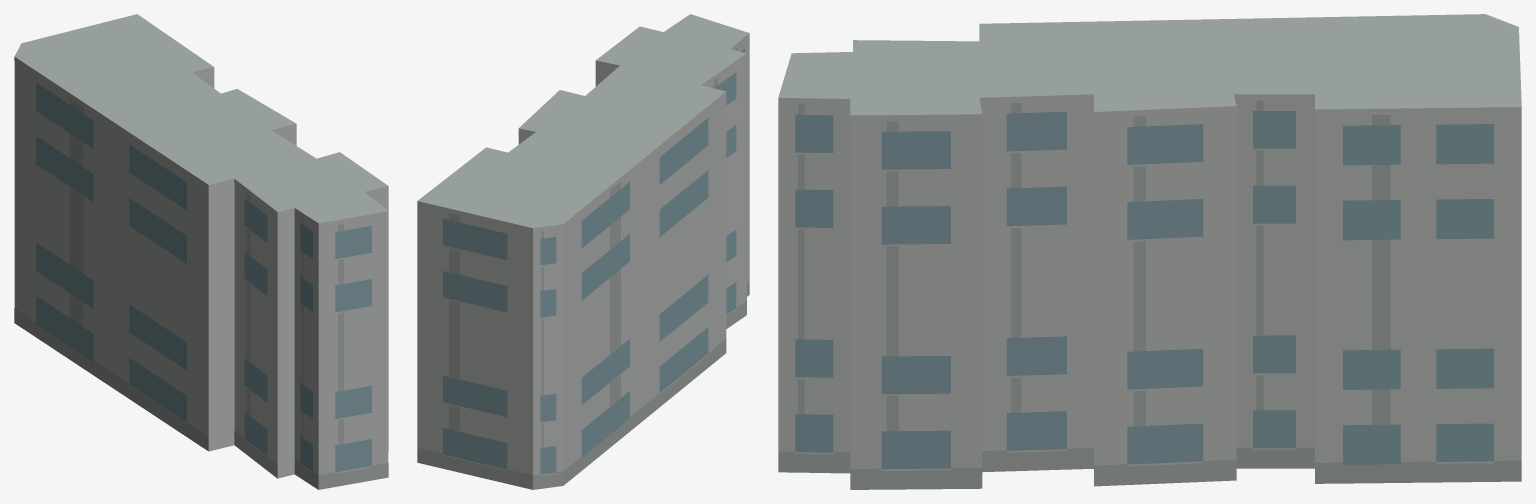
The model's file is survey-upis-32805360.glb.
3 renders of one model, left to right at view 1: azimuth 30°, elevation 25°; view 2: azimuth 150°, elevation 25°; view 3: azimuth 270°, elevation 25°, orthographic. The views are drawn at different scales.
Parts seen in each view (by area): view 1: survey-upis-32805360.tmp; view 2: survey-upis-32805360.tmp; view 3: survey-upis-32805360.tmp.
Part boxes in pixels (x1,y1,x2,y2): survey-upis-32805360.tmp: (14, 14, 388, 489); survey-upis-32805360.tmp: (417, 14, 749, 489); survey-upis-32805360.tmp: (778, 14, 1521, 489).
Bounding box in the file's own units: 8.35 × 14.35 × 25.84.
